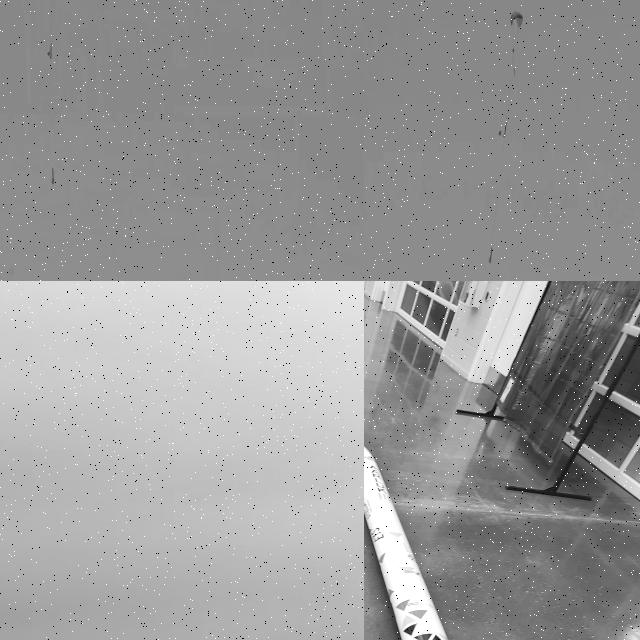Rocket: (364, 445, 448, 640), (488, 247, 493, 264), (52, 168, 54, 184)
